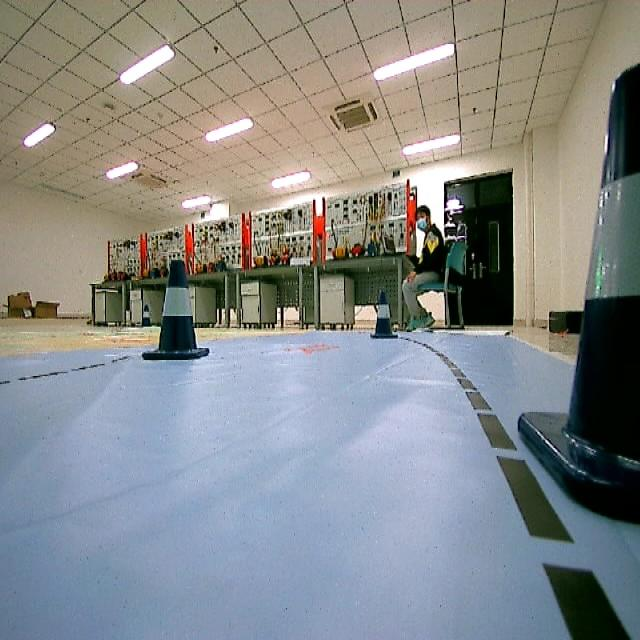obstacle: (562, 53, 640, 520), (141, 258, 215, 363), (362, 287, 402, 342)
